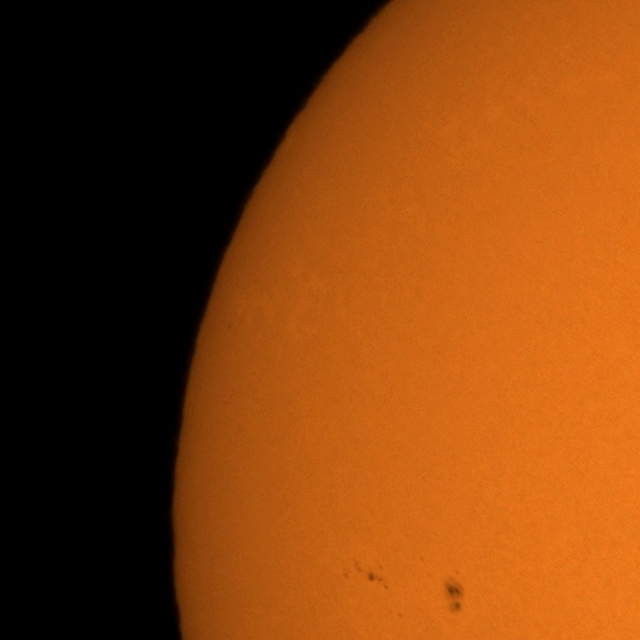sunspot: (346, 559, 387, 589), (444, 574, 465, 615), (366, 565, 388, 590)
